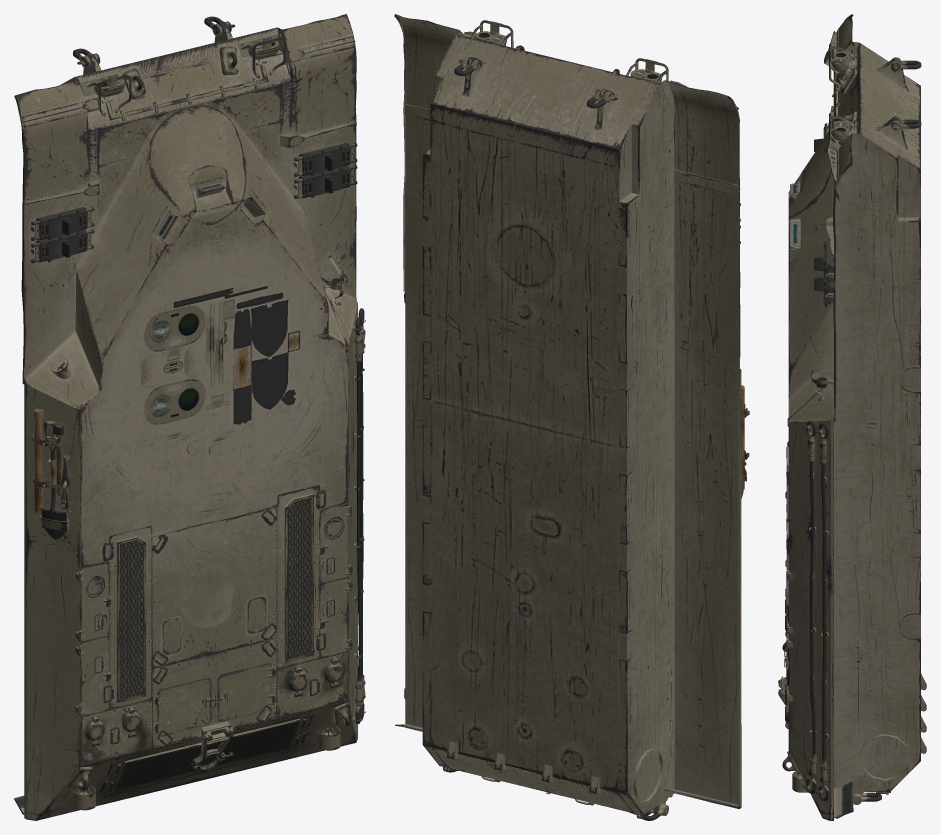
File: Hull.glb
The picture shows the model from 3 angles, left to right: view 1: azimuth 30°, elevation 25°; view 2: azimuth 150°, elevation 25°; view 3: azimuth 270°, elevation 25°; orthographic projection. The views are drawn at different scales.
Visible parts, largest first — view 1: set_0_group_0; view 2: set_0_group_0; view 3: set_0_group_0.
Part boxes in pixels (x1=…): set_0_group_0: x1=14, y1=14, x2=365, y2=820; set_0_group_0: x1=394, y1=14, x2=749, y2=820; set_0_group_0: x1=778, y1=14, x2=926, y2=820.
Size of the model in its own units: 3.2 by 6.65 by 1.33.
1 material, 1 textured.
